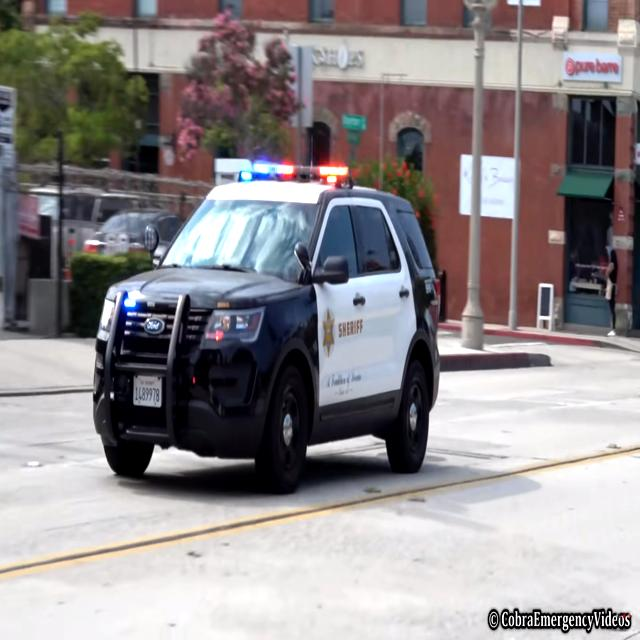emergency-vehicles: (86, 153, 448, 500)
